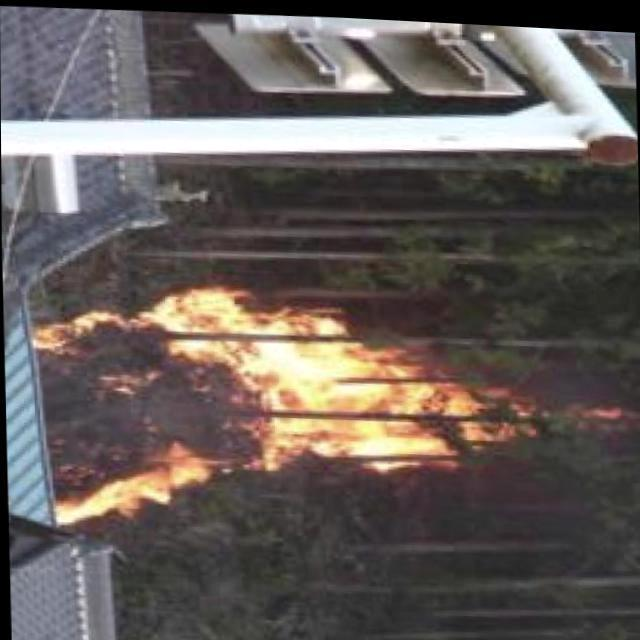fire: (60, 274, 532, 542)
